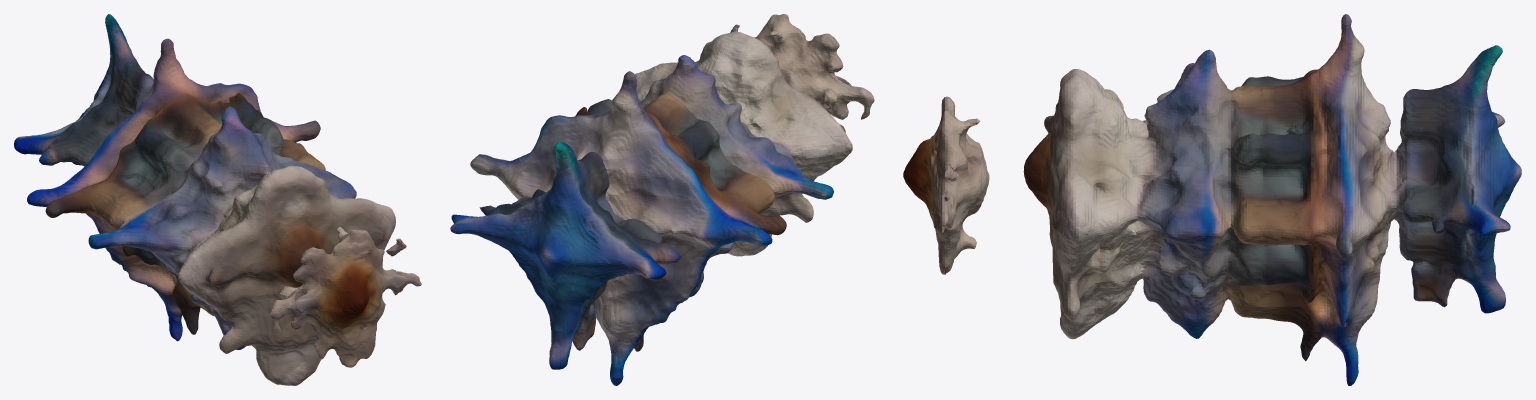
The model's file is ngp_200.fbx.
3 renders of one model, left to right at view 1: azimuth 30°, elevation 25°; view 2: azimuth 150°, elevation 25°; view 3: azimuth 270°, elevation 25°, orthographic. The views are drawn at different scales.
Visible parts, largest first — view 1: 物件_1; view 2: 物件_1; view 3: 物件_1.
Boxes of the visible parts, bbox=[...] form: 物件_1: bbox=[14, 14, 421, 385]; 物件_1: bbox=[450, 14, 874, 385]; 物件_1: bbox=[903, 14, 1521, 385].
Bounding box in the file's own units: 1.18 × 1.81 × 1.18.
